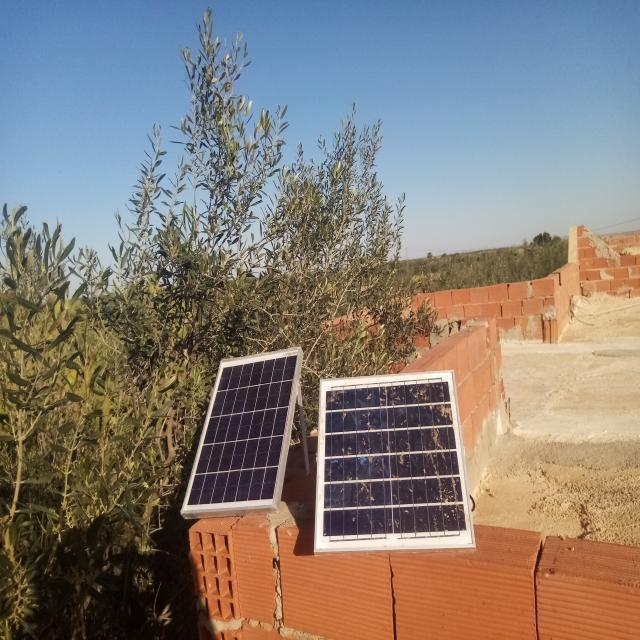Normal Solar Panel: (181, 348, 300, 513)
